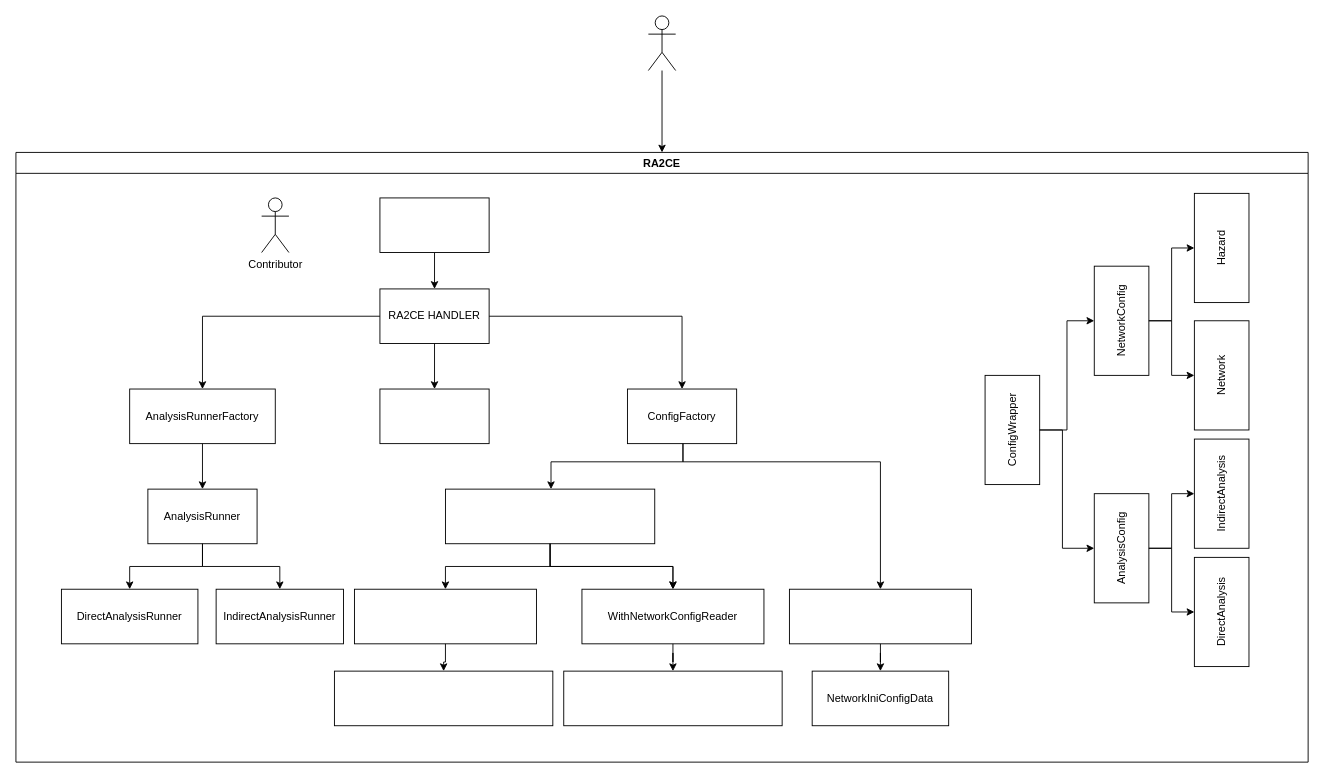
This 1324x778 diagram has some shape labels left out. The shapes that lost their labels are listed below. From the top down, each one's centre as x and y in pixels, then its label:
[661,43]: USER
[434,225]: MAIN
[434,416]: Ra2ceLogger
[550,516]: AnalysisConfigDataReaderFactory
[445,616]: WithoutNetworkConfigReader
[880,616]: NetworkIniConfigDataReader
[443,698]: AnalysisWithoutNetworkIniConfigData
[672,698]: AnalysisWithNetworkIniConfigData
